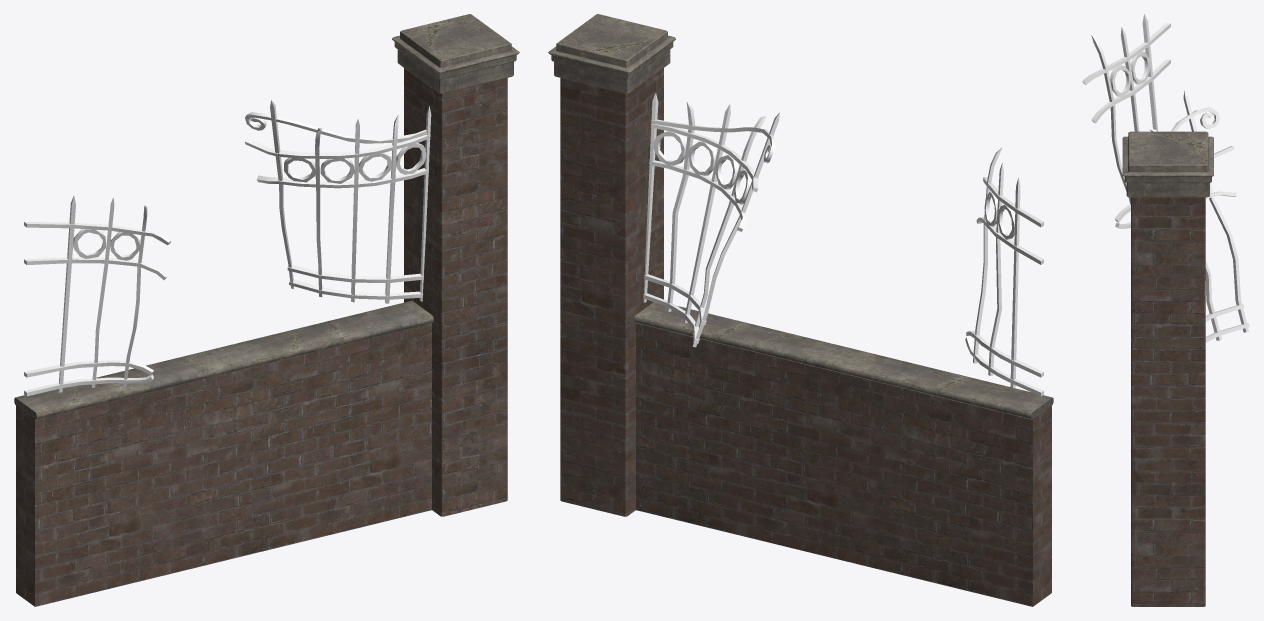
File: graveyardfence.damaged.static.glb
3 renders of one model, left to right at view 1: azimuth 30°, elevation 25°; view 2: azimuth 150°, elevation 25°; view 3: azimuth 270°, elevation 25°, orthographic. The views are drawn at different scales.
Parts seen in each view (by area): view 1: graveyard_fence_damaged_LOD0, graveyard_fence_pillar_LOD0; view 2: graveyard_fence_damaged_LOD0, graveyard_fence_pillar_LOD0; view 3: graveyard_fence_pillar_LOD0, graveyard_fence_damaged_LOD0.
Part boxes in pixels (x1,y1,x2,y2): graveyard_fence_damaged_LOD0: [14, 100, 433, 606]; graveyard_fence_pillar_LOD0: [392, 14, 519, 516]; graveyard_fence_damaged_LOD0: [634, 93, 1053, 606]; graveyard_fence_pillar_LOD0: [548, 14, 675, 516]; graveyard_fence_pillar_LOD0: [1122, 131, 1213, 606]; graveyard_fence_damaged_LOD0: [1082, 14, 1249, 342].
Size of the model in its own units: 3.29 by 3.05 by 1.05.
3 materials, 2 textured.
